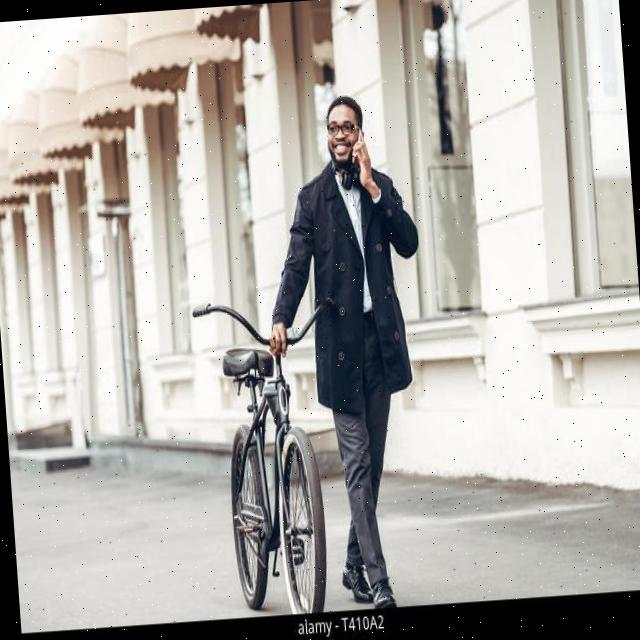Using mobile: (288, 88, 417, 255)
